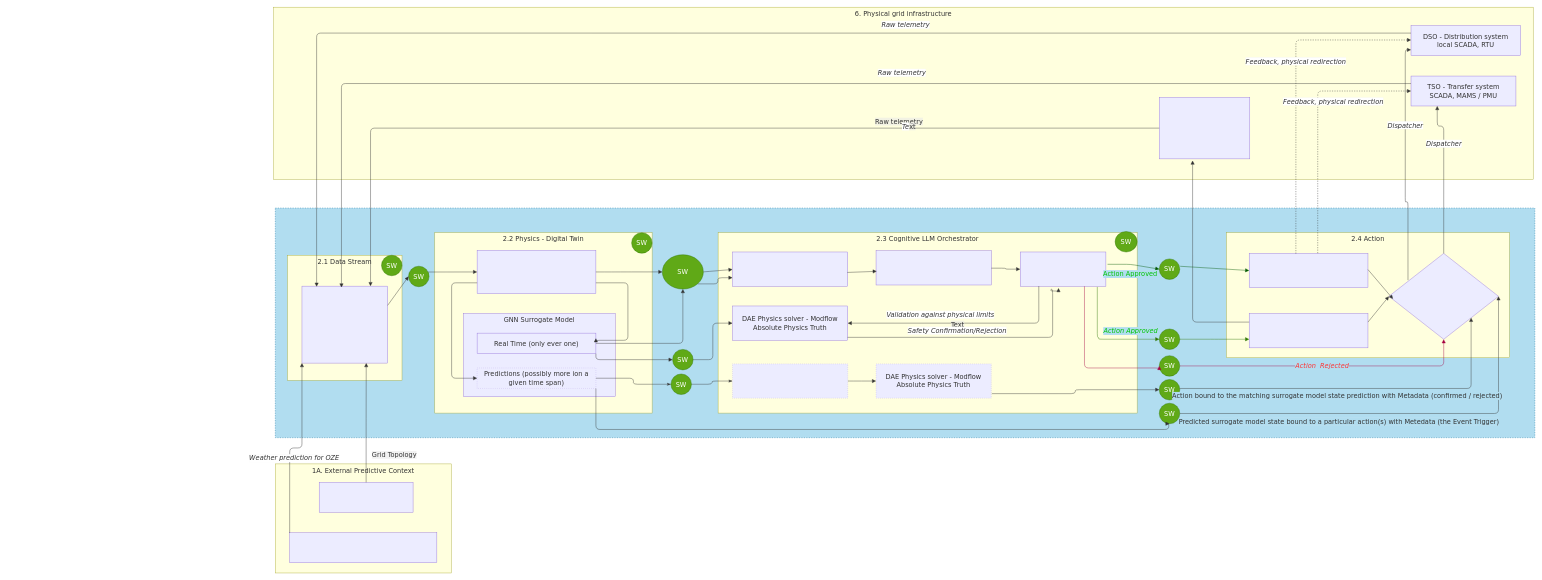
Some shapes in this 1542 by 580 pixel diagram are drawn without their labels. Here are the shapes that lost their labels. From the top down, the centre of each, then its label:
At point (1204, 128): "Terminal grids / Microgrids Smart Meters, OZE, BESS Dispatcher on premises".
At point (536, 272): "Multimodal filtered event with Metadata (type and origin of the event)".
At point (790, 269): "LLM Cognitive Real Time Analysis Decisions and strategy".
At point (933, 267): "Solution Suggestion, e.g. reconfiguration, choices BESS".
At point (1063, 269): "Grid Feasibility Authority (GFA)".
At point (1308, 270): "Dispatch TSO/DSO Decission suppor".
At point (1444, 296): "Dispatcher either pass-throught or manual override".
At point (345, 324): "Transformation, Filtering and space-time synchronization data".
At point (1308, 330): "Microgrid / Agregation Automated managementt".
At point (790, 380): "LLM Cognitive Future Analysis Predictions and strategy".
At point (366, 497): "Spacial data and GIS GPS grid nodes location".
At point (363, 547): "Meteo Forecasting Light exposure, Wind, Temperature, etc..".
